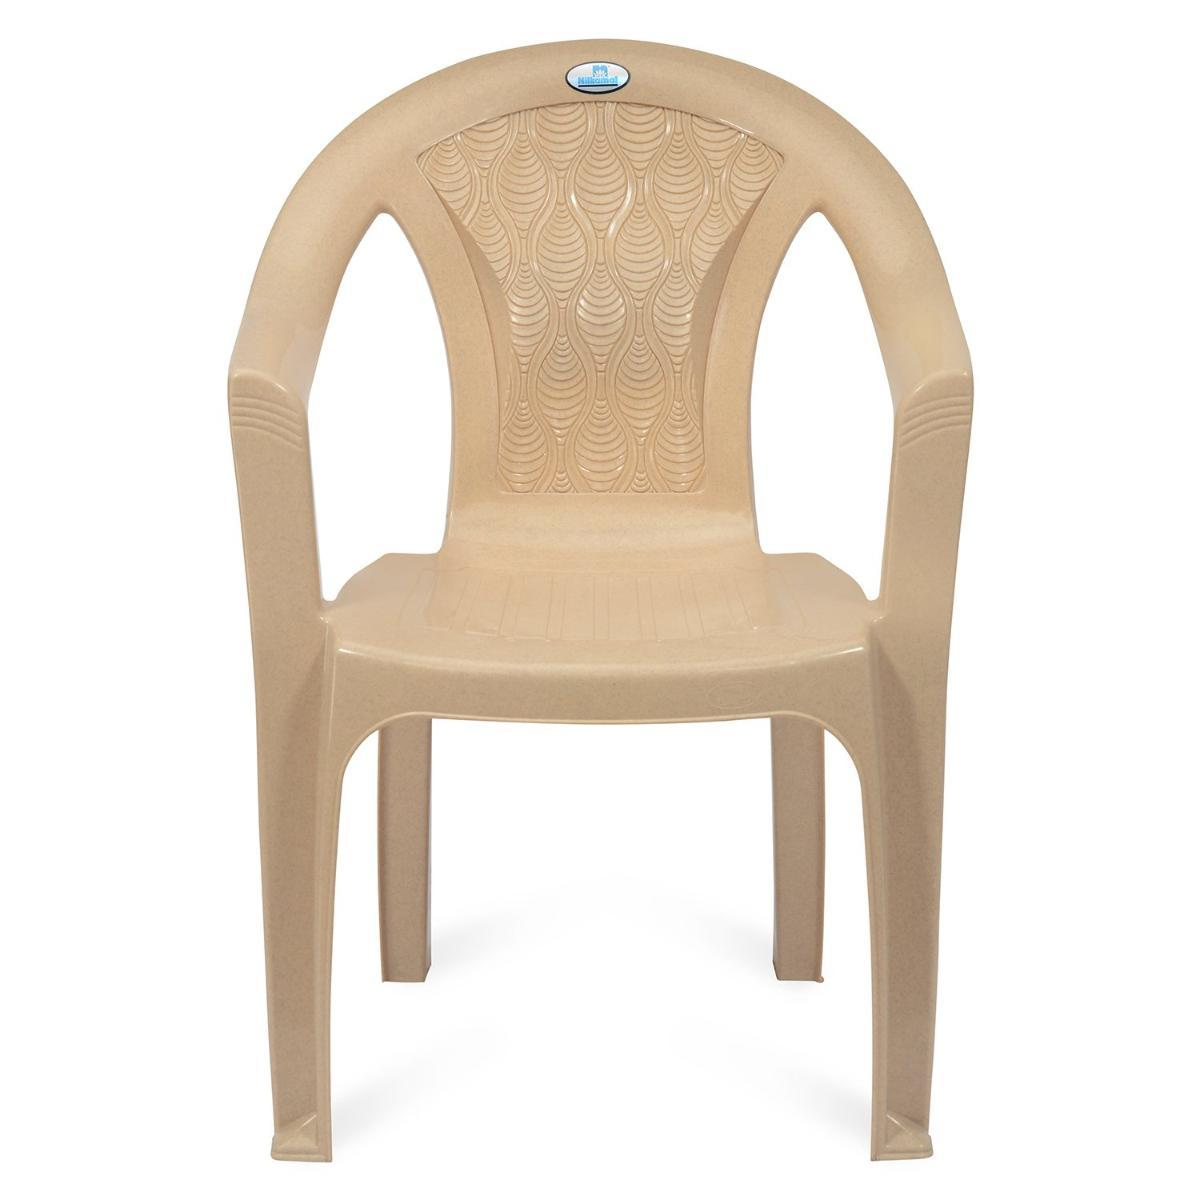Chair: (220, 37, 938, 1161)
